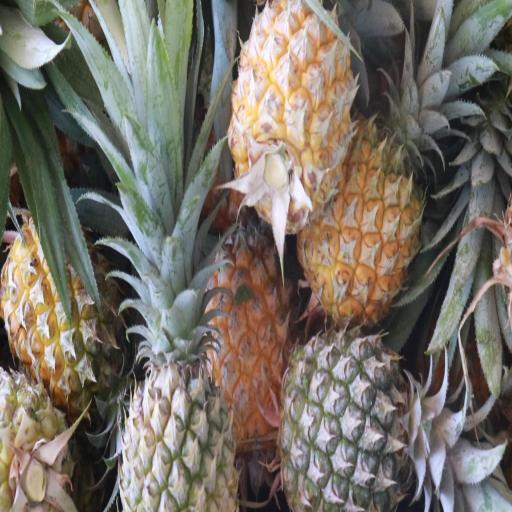------------------------------: (5, 213, 120, 400)
Pineapple - v8 v1: (224, 2, 352, 230), (301, 117, 422, 314), (206, 211, 294, 437)
